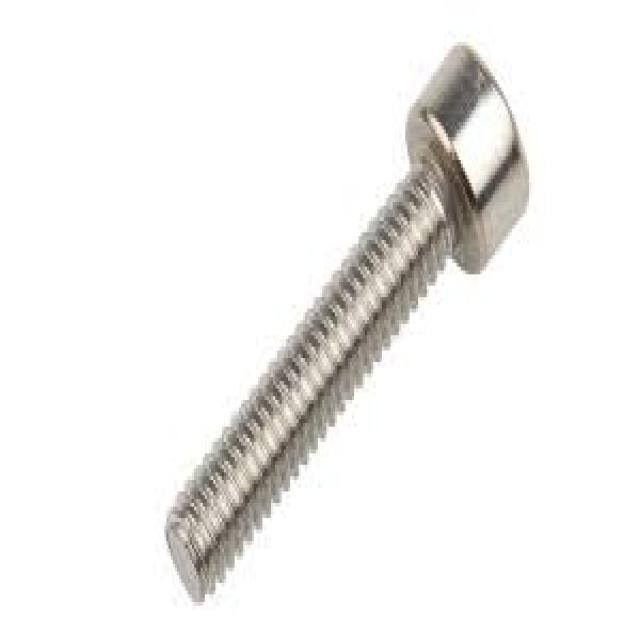Screw: (164, 42, 535, 606)
